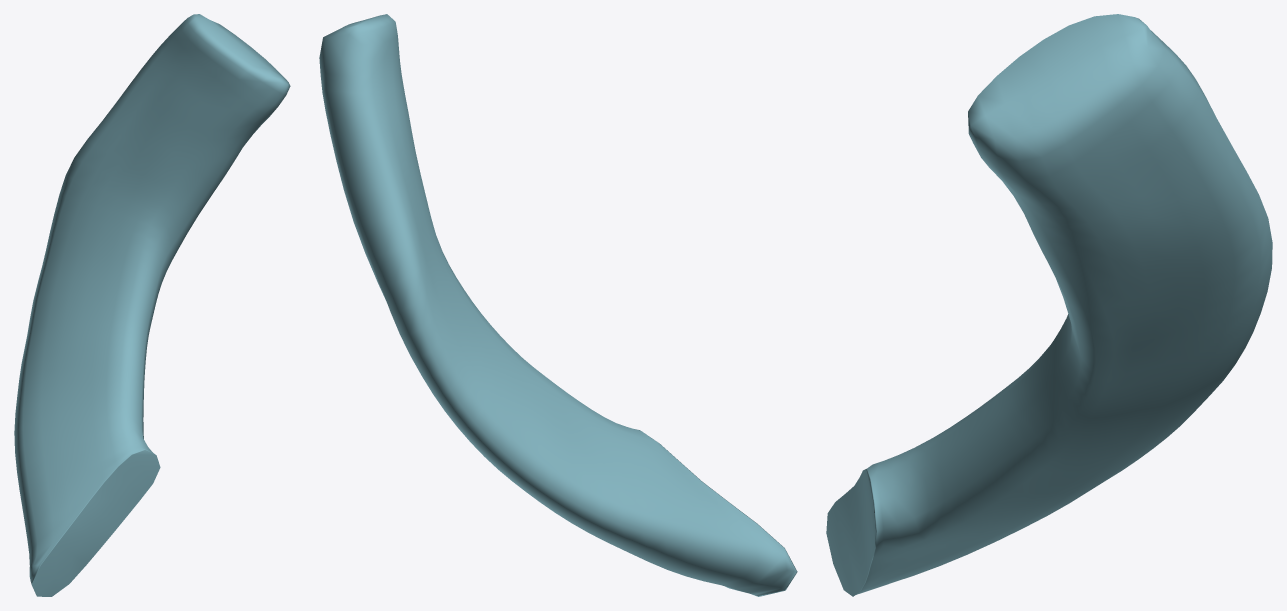
3 renders of one model, left to right at view 1: azimuth 30°, elevation 25°; view 2: azimuth 150°, elevation 25°; view 3: azimuth 270°, elevation 25°, orthographic. The views are drawn at different scales.
Parts seen in each view (by area): view 1: 左侧第十肋软骨; view 2: 左侧第十肋软骨; view 3: 左侧第十肋软骨.
Part boxes in pixels (x1,y1,x2,y2): 左侧第十肋软骨: (14,14,290,596); 左侧第十肋软骨: (319,14,797,596); 左侧第十肋软骨: (826,14,1272,596).
Bounding box in the file's own units: 0.0694 × 0.0993 × 0.053.
